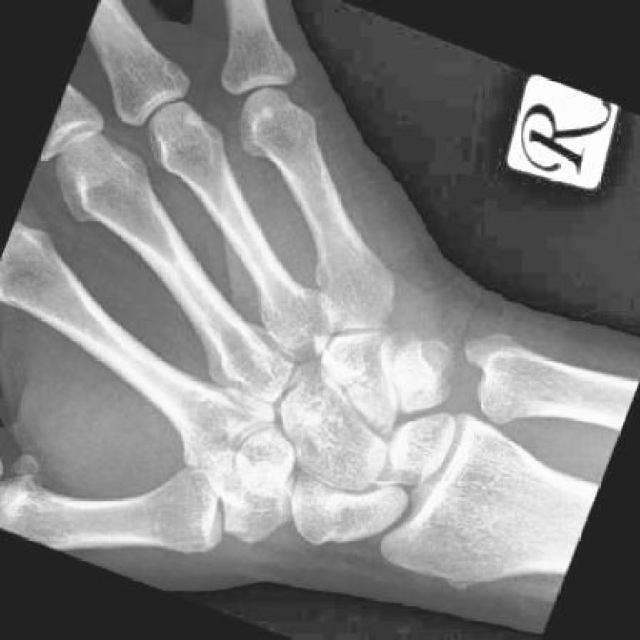Fracture: (385, 337, 458, 419)
